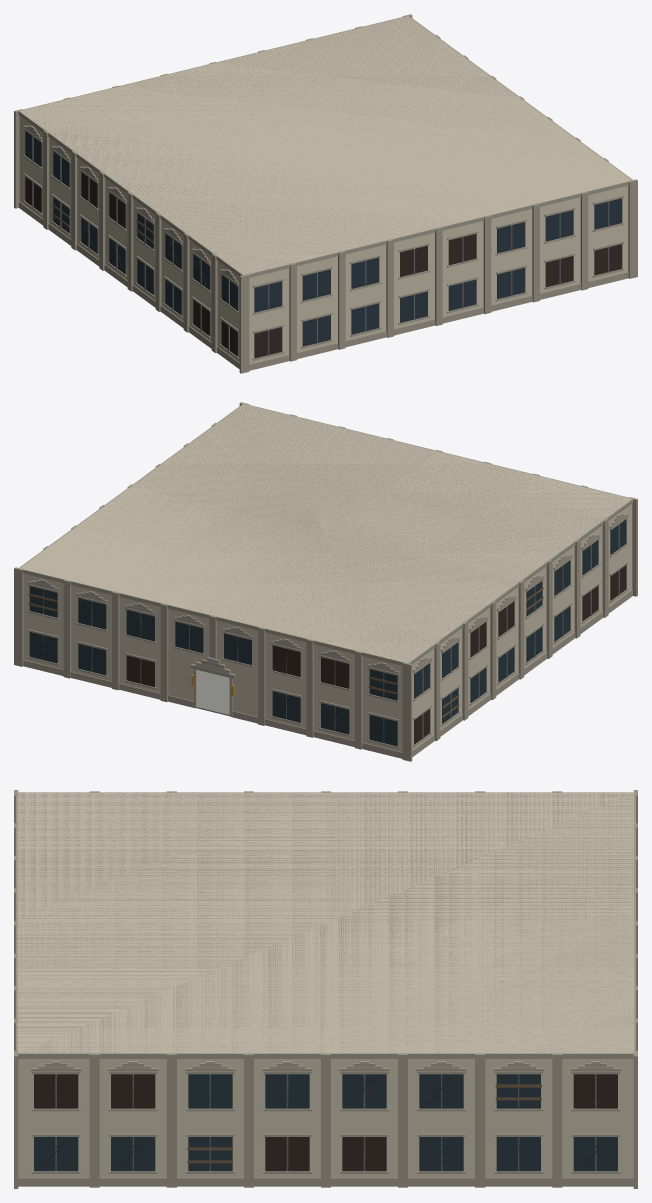
File: tw_deco_32_base.glb
3 views of the same model, one above another, from view 1: azimuth 30°, elevation 25°; view 2: azimuth 150°, elevation 25°; view 3: azimuth 270°, elevation 25° (orthographic). The views are drawn at different scales.
Visible parts, largest first — view 1: tw_deco_32_base; view 2: tw_deco_32_base; view 3: tw_deco_32_base.
Part boxes in pixels (box(x1,y1,x2,y2)): tw_deco_32_base: box(14, 14, 637, 373); tw_deco_32_base: box(14, 402, 637, 761); tw_deco_32_base: box(14, 790, 637, 1188).
Size of what is drawn, in the model's own units: 32.68 by 7.6 by 32.38.
2 materials, 2 textured.
